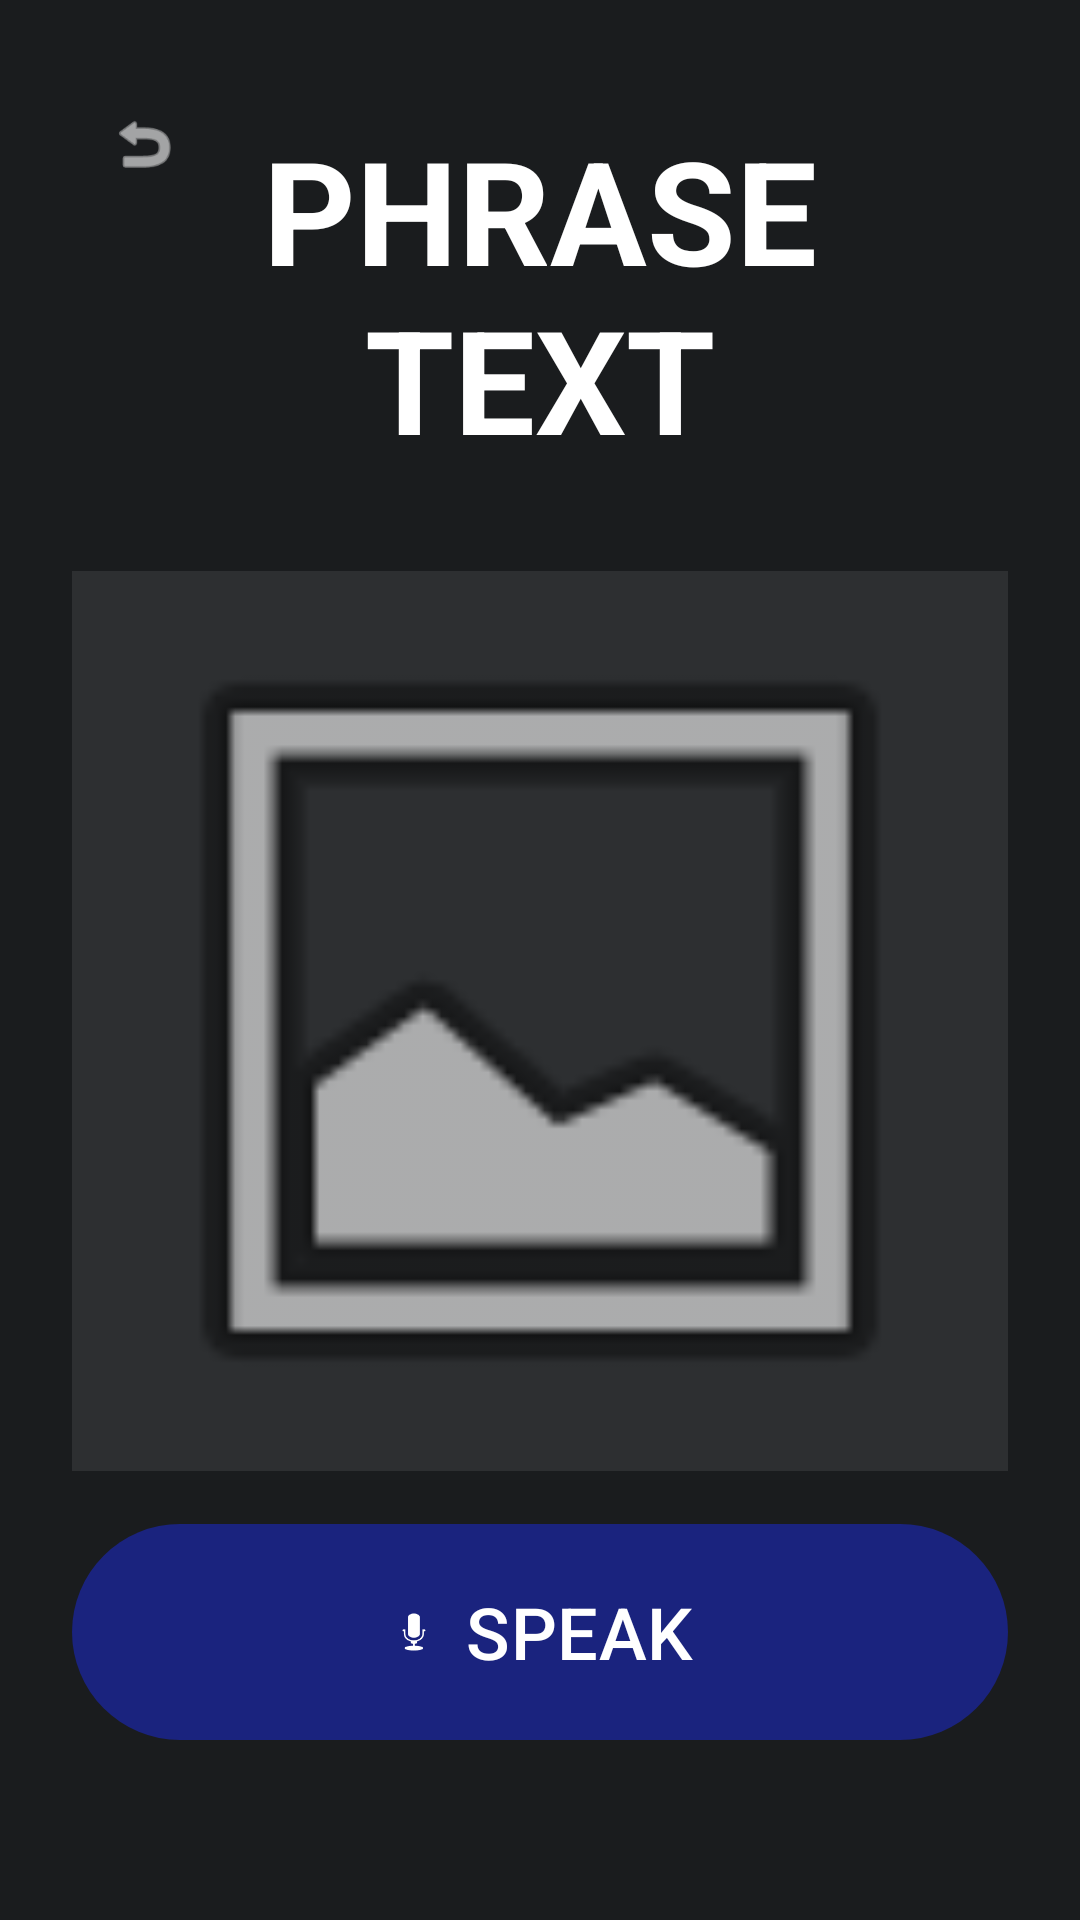

Where to tap for icons on this 1080x1920 app screen, as (x,y):
revert: (145,144)
